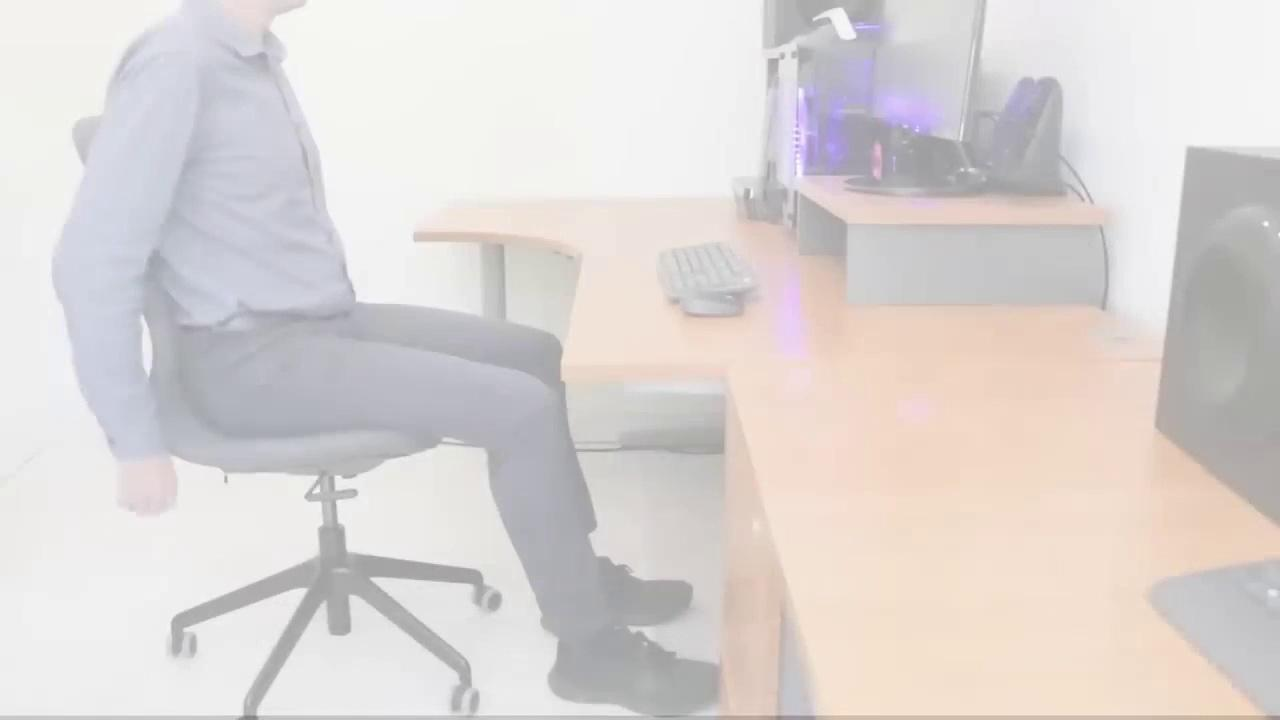GoodPosture: (55, 0, 714, 695)
